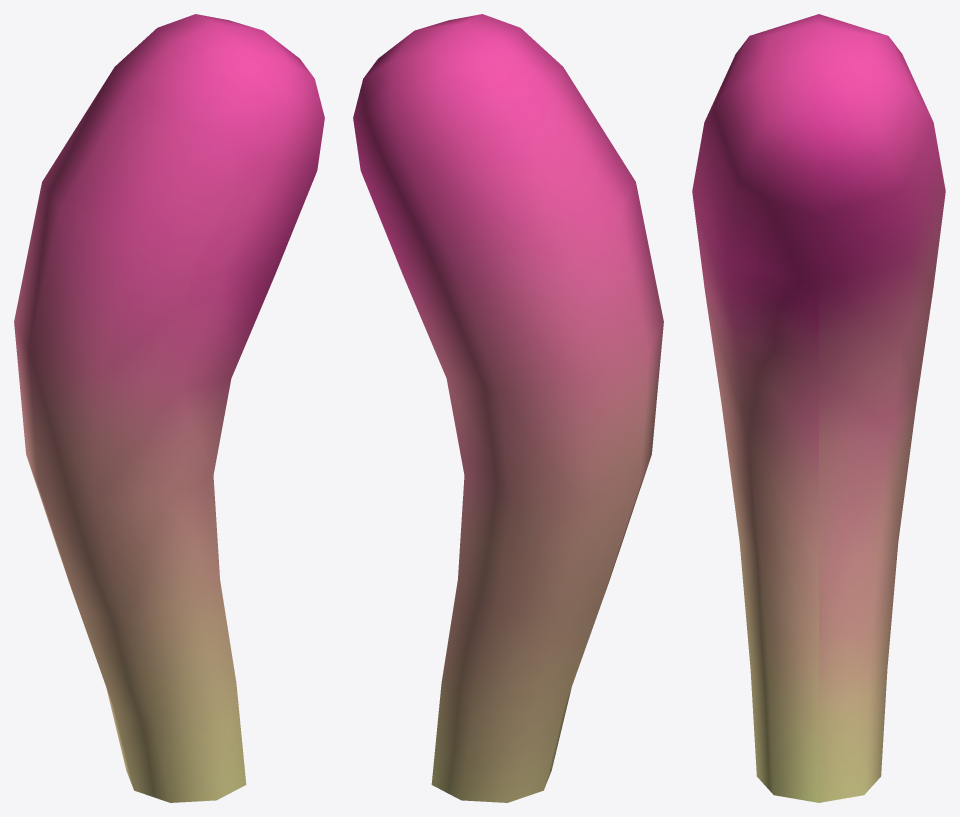
Rendered from little_flople.fbx.
The picture shows the model from 3 angles, left to right: view 1: azimuth 30°, elevation 25°; view 2: azimuth 150°, elevation 25°; view 3: azimuth 270°, elevation 25°; orthographic projection. The views are drawn at different scales.
Parts seen in each view (by area): view 1: littleflople; view 2: littleflople; view 3: littleflople.
Boxes of the visible parts, x1,y1,x2,y2 form: littleflople: (14,14,324,802); littleflople: (353,14,663,802); littleflople: (692,14,945,802).
Size of the model in its own units: 125 by 318 by 95.32.
